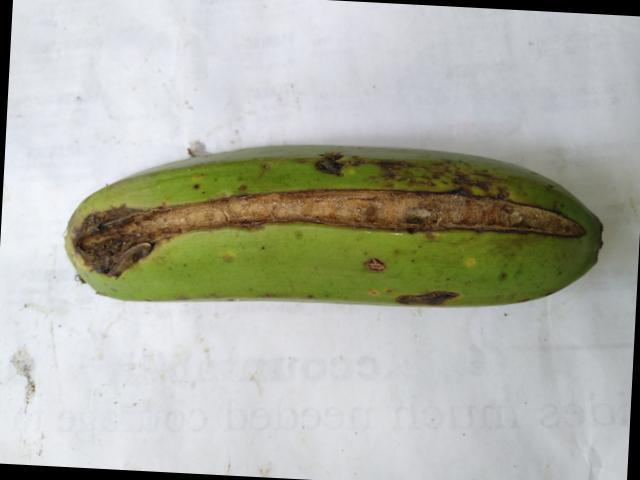rotten: (55, 160, 590, 304)
